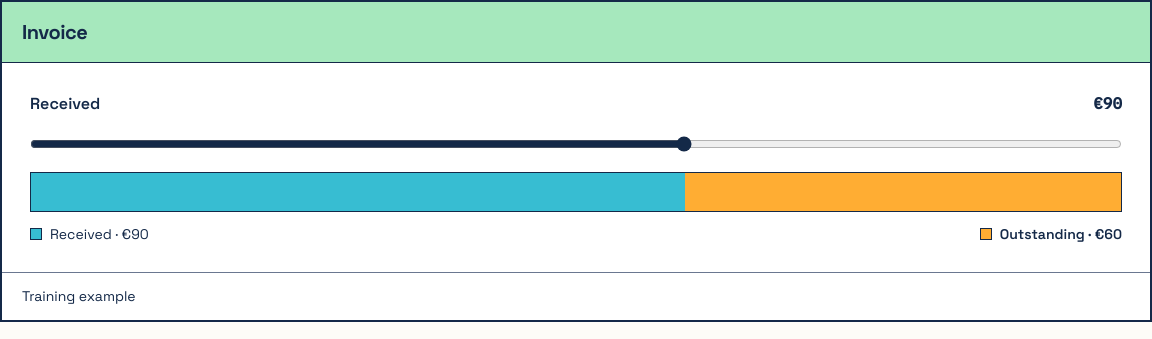
Test: updates the remaining invoice balance as the learner changes the receipt
The width and height of the screenshot is (1152, 339).
Check: the element showing "Outstanding · €60" is shown, box [980, 224, 1122, 244]
Set the slider labelled "Received €90" to "150" at (1114, 144), box [30, 128, 1122, 160]
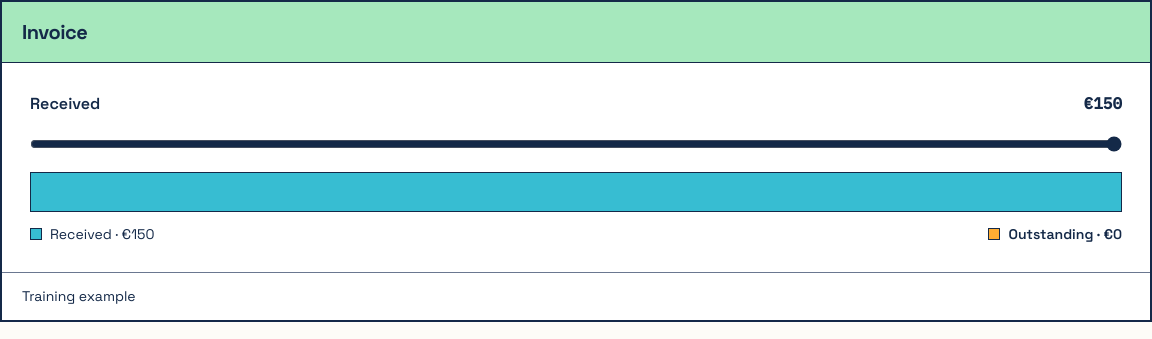
Check: the element showing "Outstanding · €0" is shown, box [988, 224, 1122, 244]
